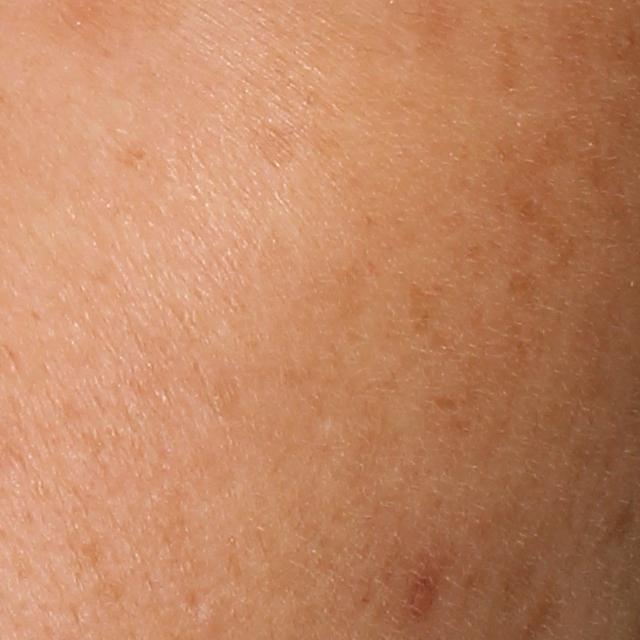melasma: (479, 103, 640, 284), (402, 271, 488, 456), (243, 46, 358, 176), (386, 543, 459, 630), (477, 3, 523, 103), (497, 267, 551, 329), (593, 498, 640, 560), (108, 130, 156, 177)
